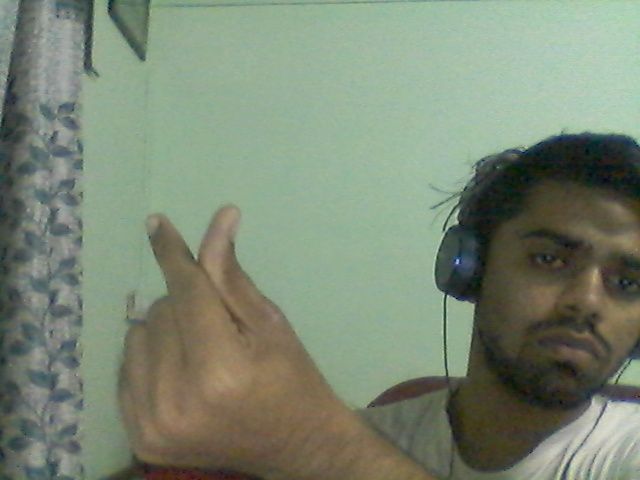I Love You: (100, 163, 346, 480)
